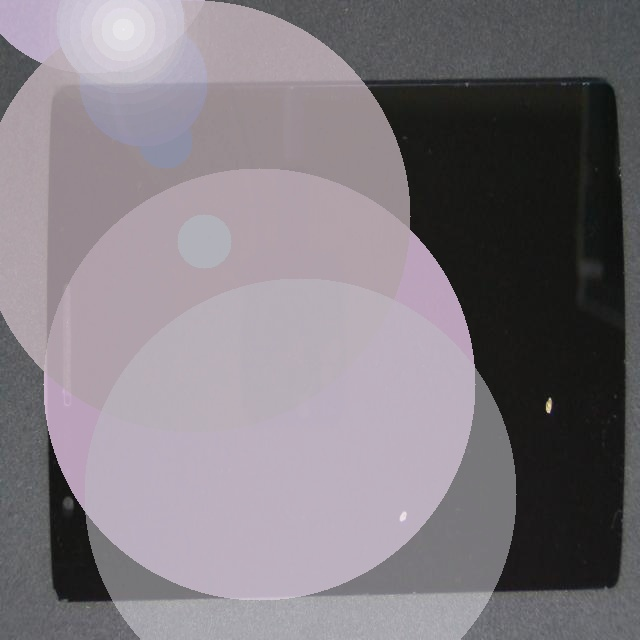stain: (228, 204, 640, 637), (211, 215, 601, 640)
